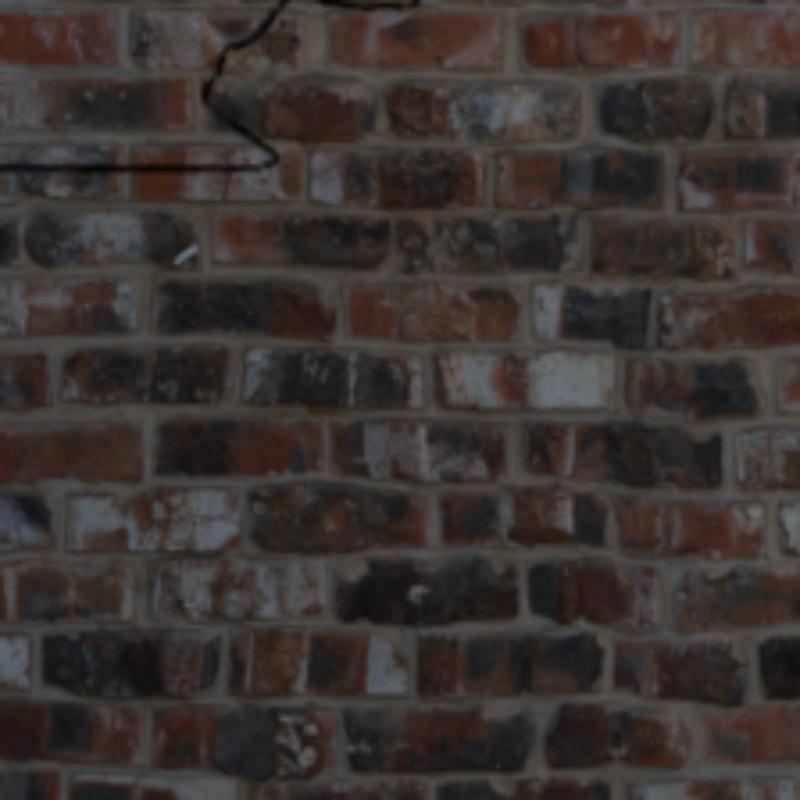crack: (0, 0, 289, 174), (318, 0, 421, 11)
